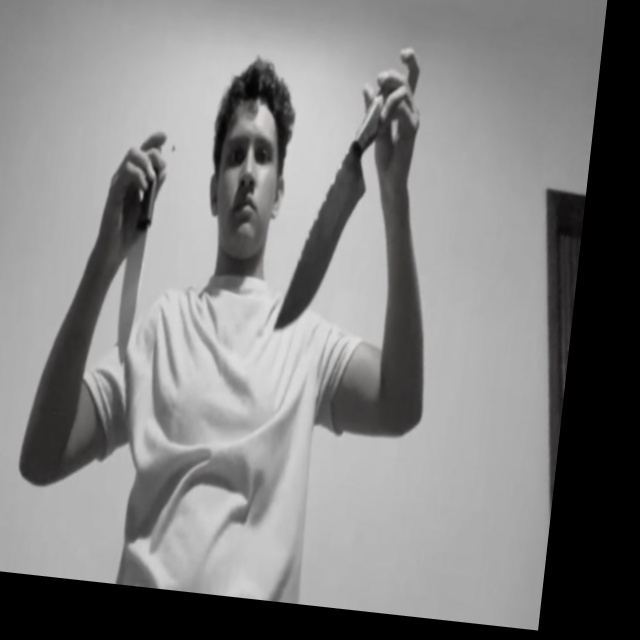Sharp-Object: (275, 144, 370, 341), (112, 219, 150, 371)
